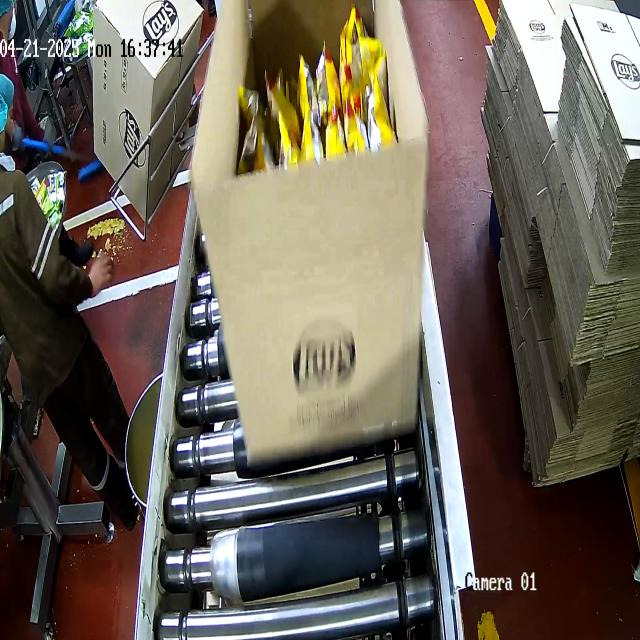SALTED: (233, 33, 395, 174)
